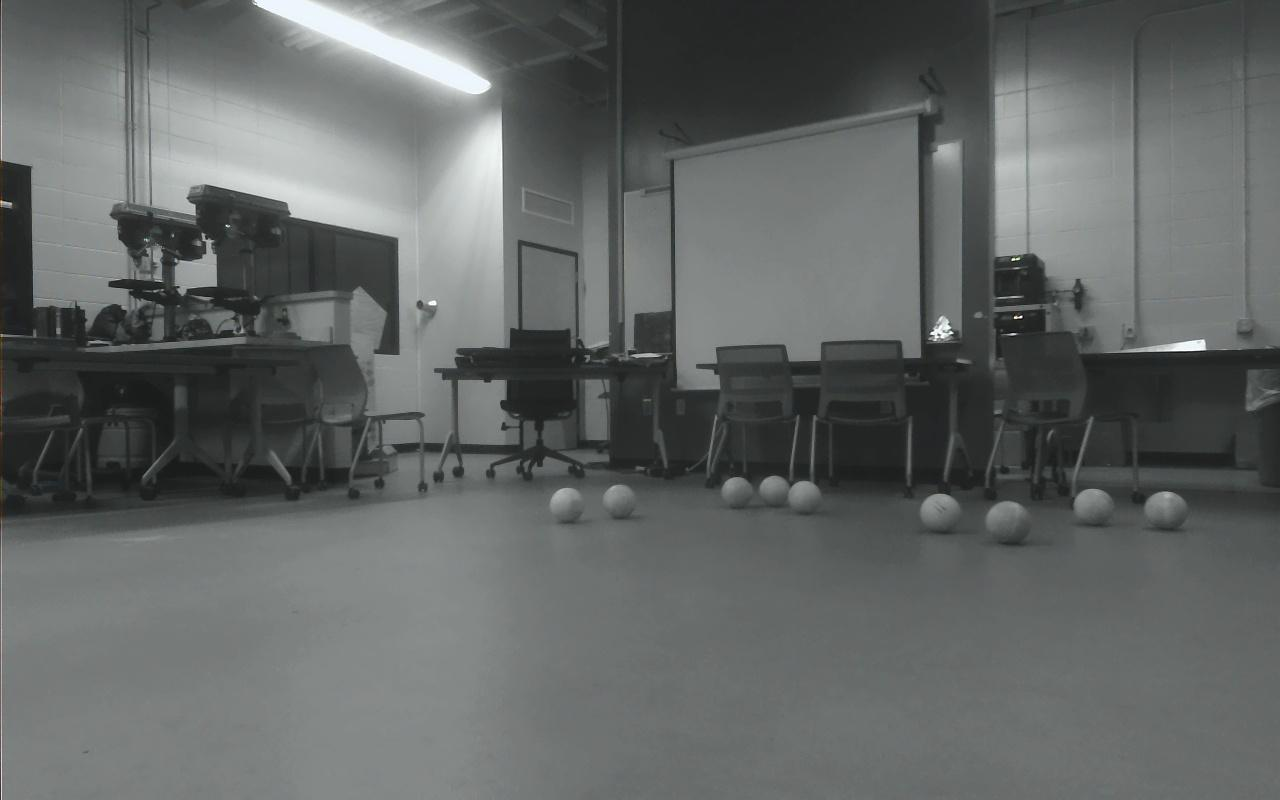Fuel: (986, 501, 1030, 544), (1146, 491, 1188, 530), (920, 494, 960, 533), (1073, 488, 1114, 526), (549, 487, 584, 522), (603, 484, 636, 519), (787, 481, 820, 514), (721, 477, 753, 509), (759, 476, 791, 508)
